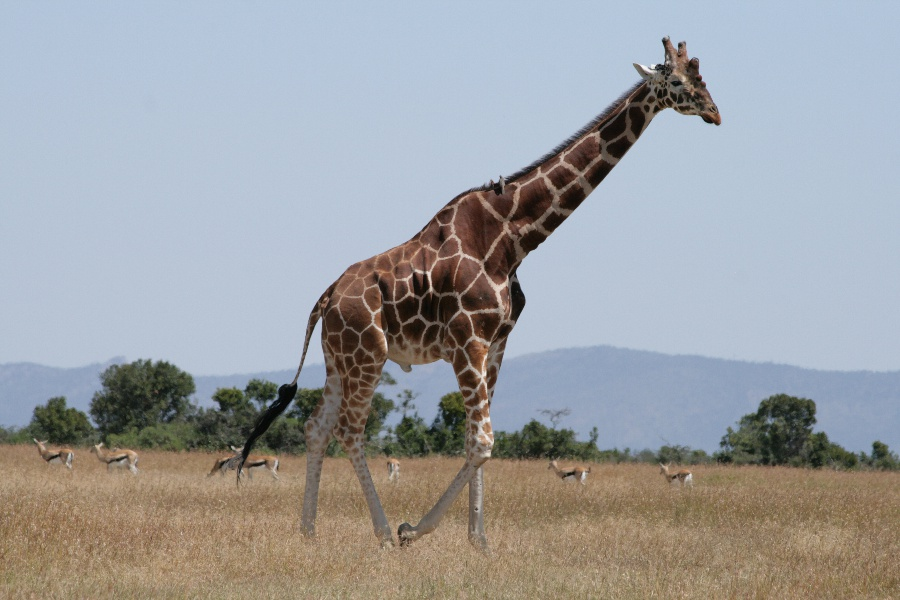giraffe: (271, 31, 723, 549)
